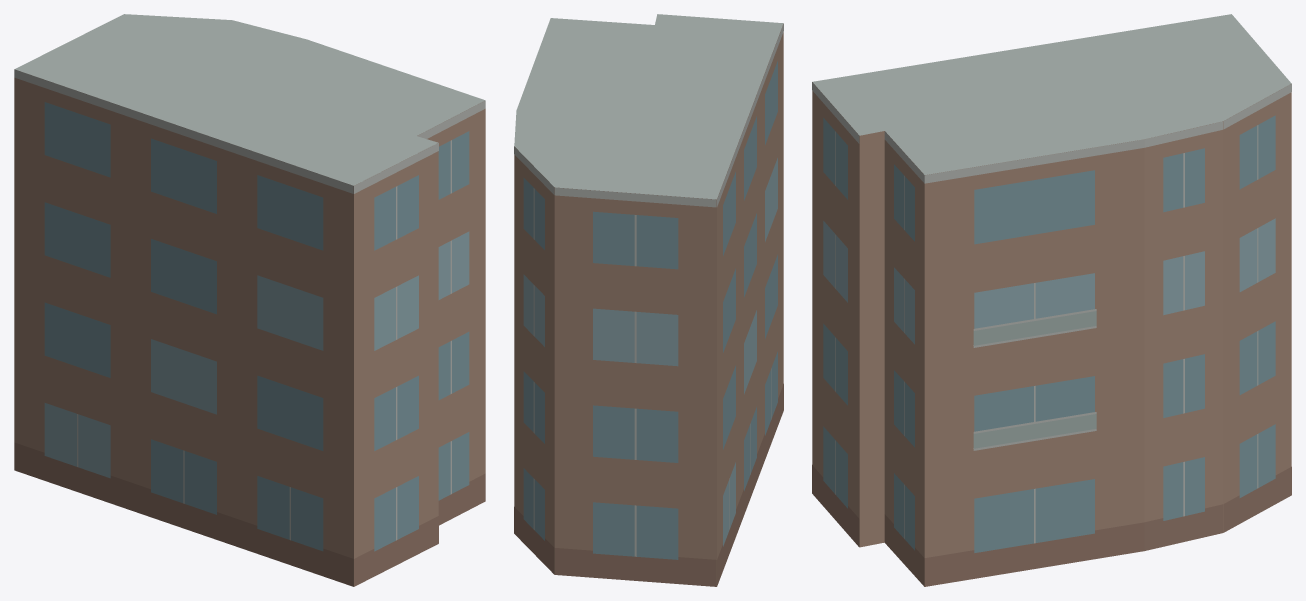
File: survey-upis-32620216.glb
3 views of the same model, side by side, from view 1: azimuth 30°, elevation 25°; view 2: azimuth 150°, elevation 25°; view 3: azimuth 270°, elevation 25° (orthographic). The views are drawn at different scales.
Visible parts, largest first — view 1: survey-upis-32620216.tmp; view 2: survey-upis-32620216.tmp; view 3: survey-upis-32620216.tmp.
Part boxes in pixels (x1,y1,x2,y2): survey-upis-32620216.tmp: [14, 14, 485, 586]; survey-upis-32620216.tmp: [514, 14, 783, 586]; survey-upis-32620216.tmp: [812, 14, 1291, 586].
Size of the model in its own units: 9.91 by 11.8 by 12.46.
